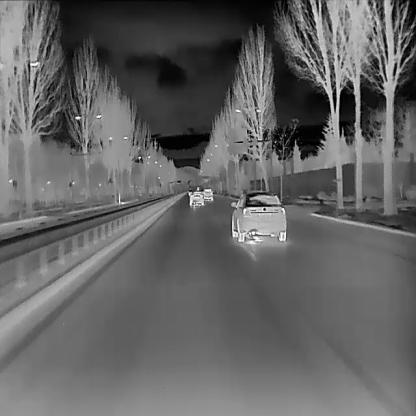car: (228, 187, 286, 242), (188, 190, 204, 205), (202, 187, 213, 199), (186, 188, 192, 196), (195, 184, 199, 190)
